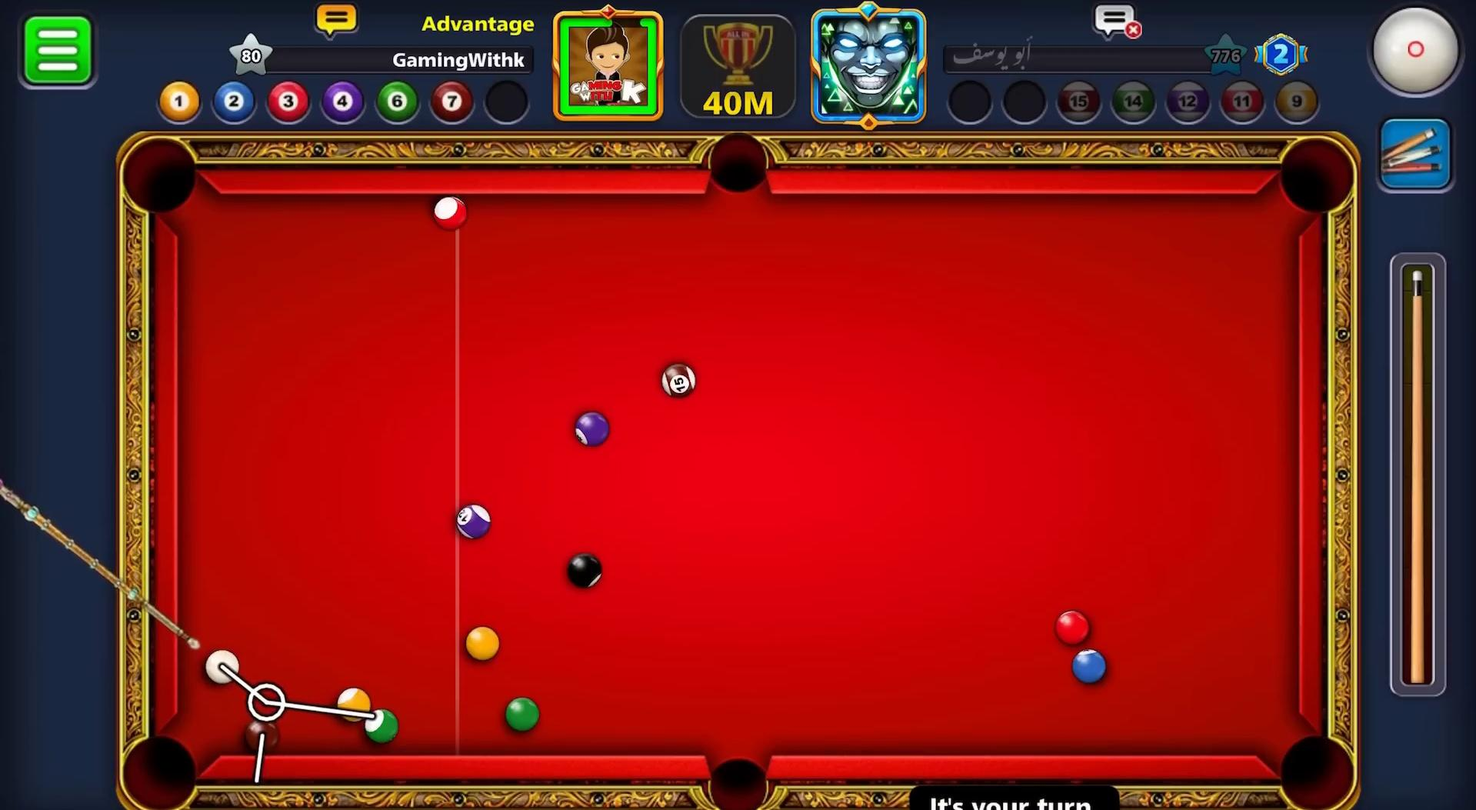Ball: (494, 687, 551, 742), (561, 403, 618, 455), (424, 185, 475, 241), (451, 620, 507, 670), (238, 711, 289, 764), (558, 545, 612, 595), (651, 357, 702, 404), (449, 498, 492, 546), (1046, 606, 1100, 644), (328, 682, 379, 722), (1067, 645, 1110, 688)
Force: (1390, 253, 1450, 704)
Guideline: (218, 664, 376, 787)
Hole: (101, 121, 219, 236), (102, 718, 221, 809), (1255, 719, 1374, 809), (1265, 122, 1365, 228), (683, 125, 792, 212), (689, 739, 786, 809)
Play_Area: (184, 192, 1293, 757)
Spin: (1363, 0, 1475, 108)
White: (196, 643, 244, 686)
